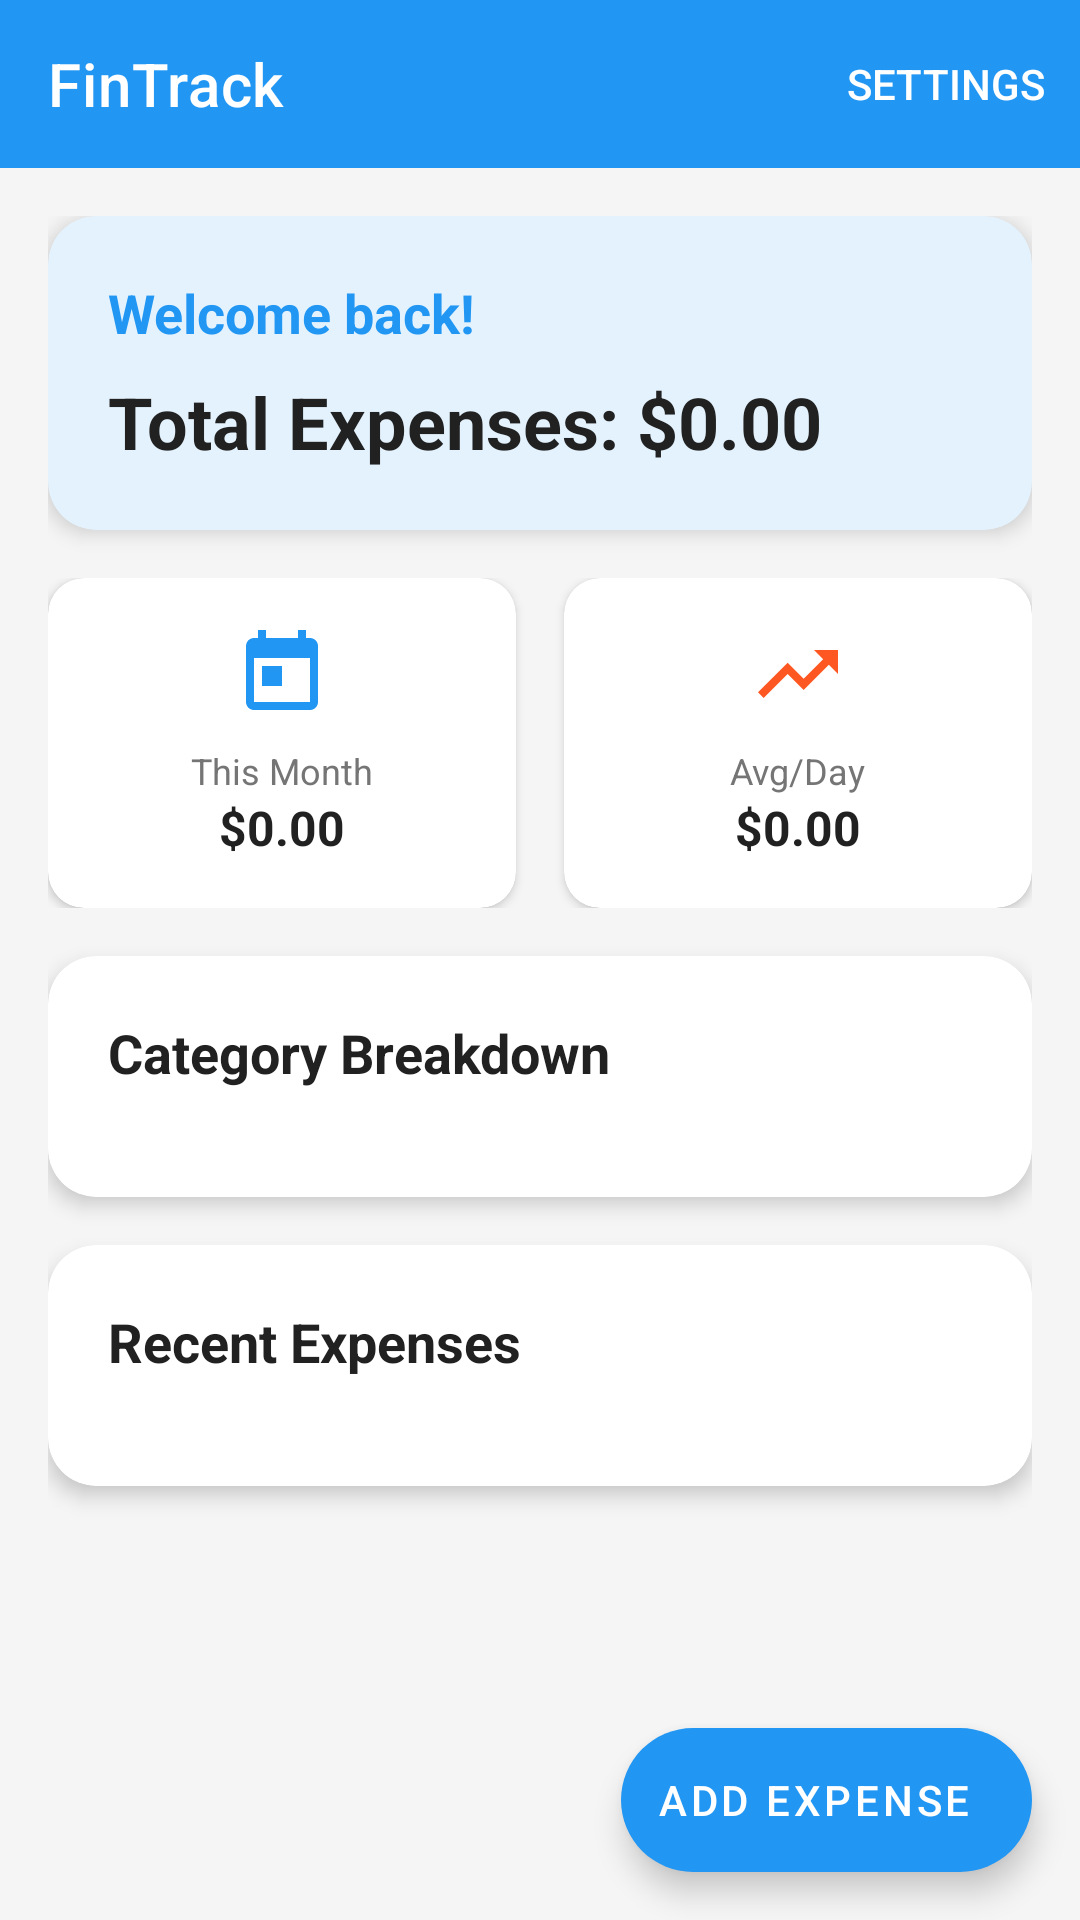

Named icons in this screenshot (1080 × 1920) and their bounding boxes, (x1, y1, x2, y2):
calendar: (246, 630, 318, 710)
trending: (758, 650, 838, 698)
